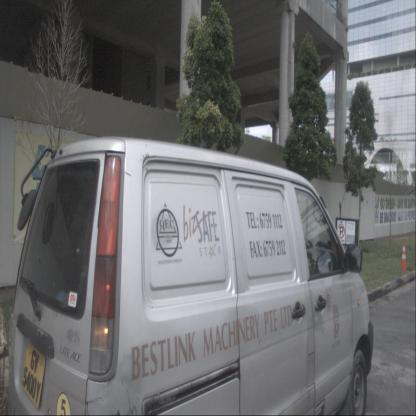cone: (399, 242, 409, 271)
